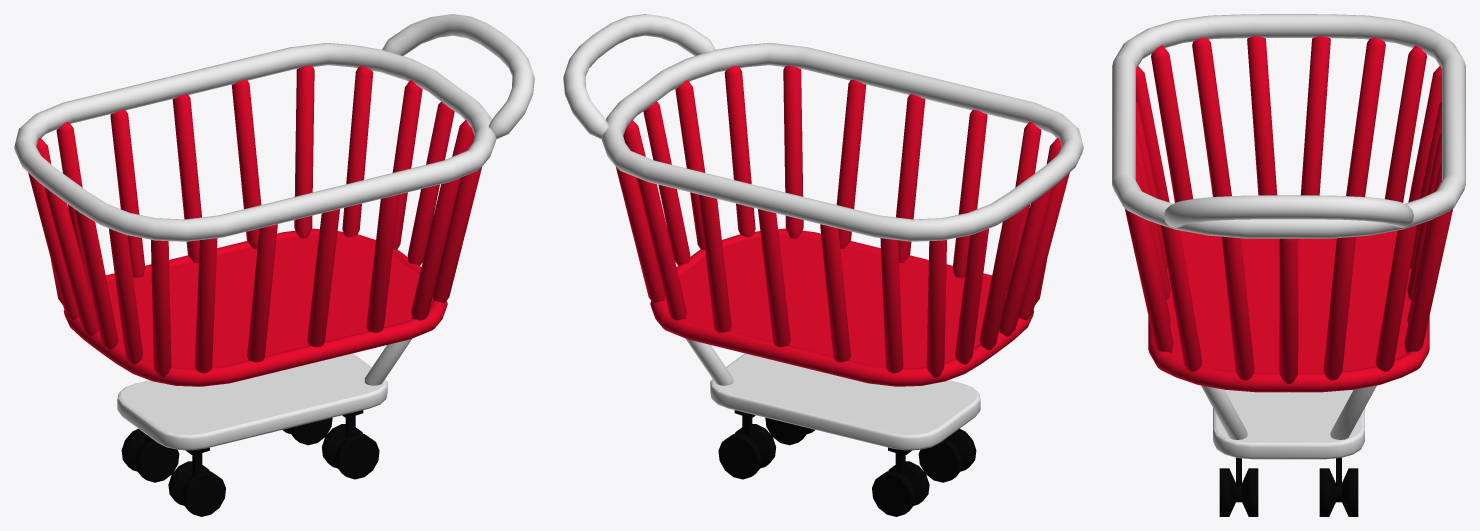
Rendered from carrello_player.fbx.
The picture shows the model from 3 angles, left to right: view 1: azimuth 30°, elevation 25°; view 2: azimuth 150°, elevation 25°; view 3: azimuth 270°, elevation 25°; orthographic projection. The views are drawn at different scales.
Parts seen in each view (by area): view 1: Circle; view 2: Circle; view 3: Circle.
Part boxes in pixels (bbox=[...]): Circle: bbox=[14, 14, 534, 516]; Circle: bbox=[563, 14, 1083, 516]; Circle: bbox=[1112, 14, 1465, 516].
Bounding box in the file's own units: 278 × 224 × 177.
